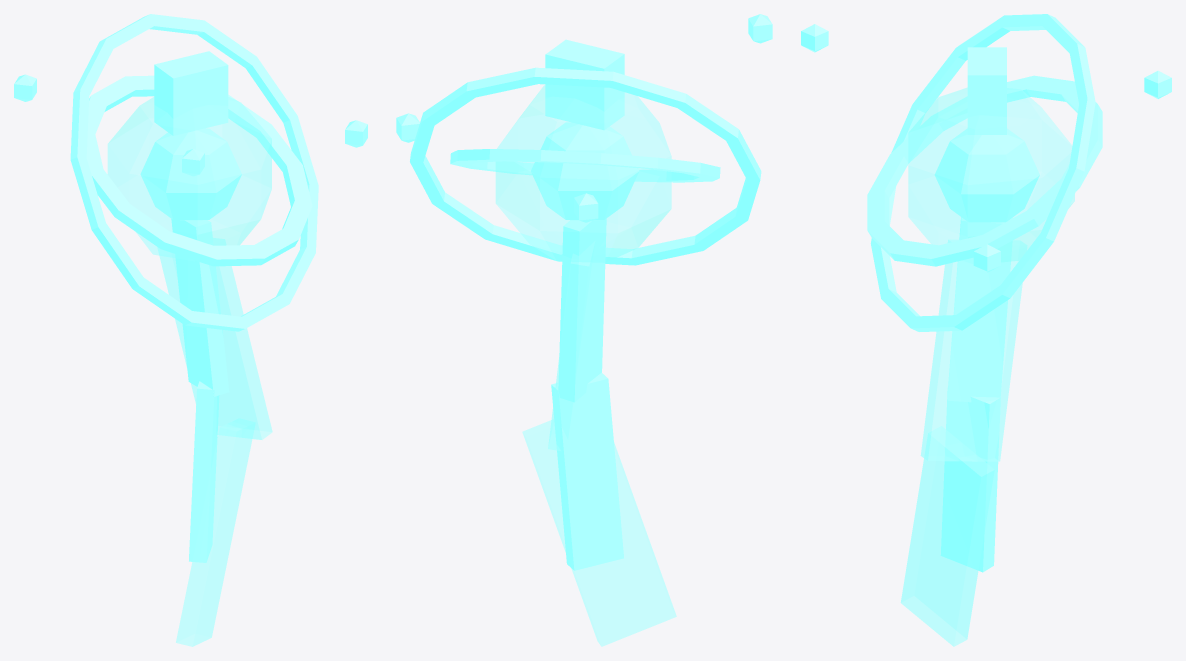
File: gear_norigae_t5_L.glb
The picture shows the model from 3 angles, left to right: view 1: azimuth 30°, elevation 25°; view 2: azimuth 150°, elevation 25°; view 3: azimuth 270°, elevation 25°; orthographic projection. The views are drawn at different scales.
Visible parts, largest first — view 1: gear_norigae_t5_L; view 2: gear_norigae_t5_L; view 3: gear_norigae_t5_L.
Part boxes in pixels (x1,y1,x2,y2): gear_norigae_t5_L: [14, 14, 367, 646]; gear_norigae_t5_L: [396, 14, 772, 646]; gear_norigae_t5_L: [801, 14, 1171, 646].
Size of the model in its own units: 0.2801 by 0.5039 by 0.281.
